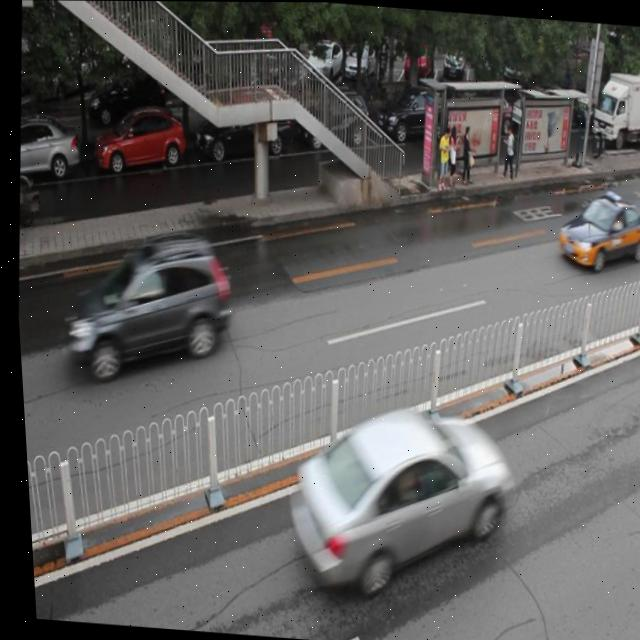bus: (583, 64, 640, 144)
car: (276, 397, 509, 604), (54, 227, 233, 384), (550, 188, 640, 271), (89, 104, 187, 180), (191, 97, 291, 166), (292, 83, 371, 155), (372, 80, 452, 148), (14, 115, 81, 186)
